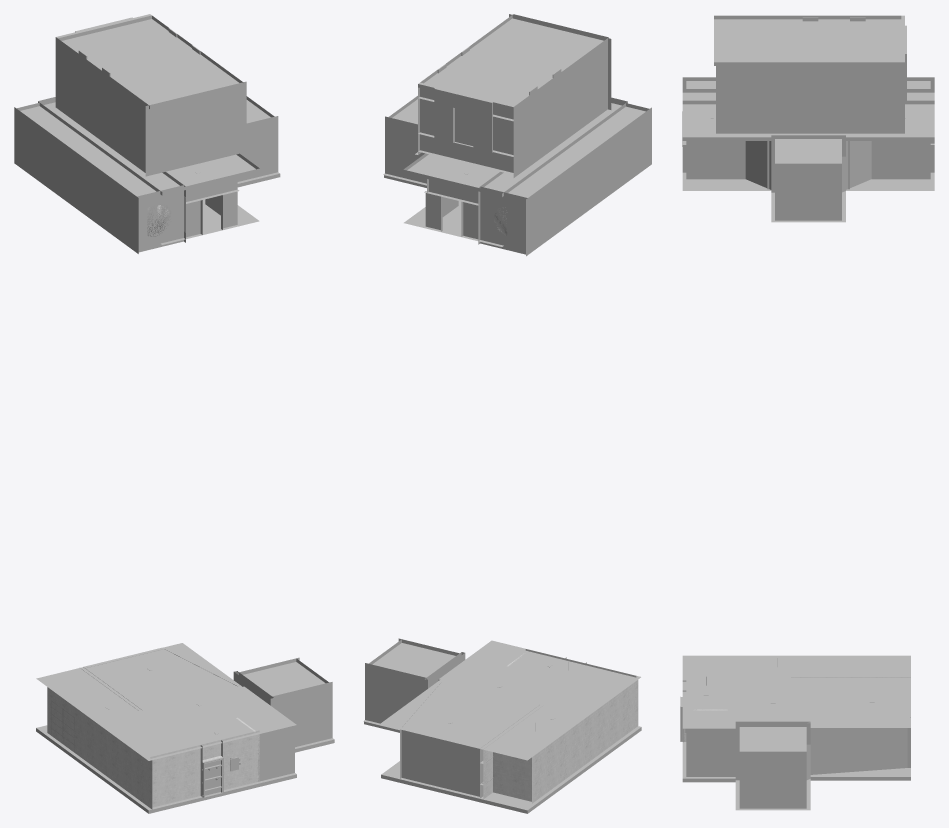
Rendered from room008.fbx.
3 renders of one model, left to right at view 1: azimuth 30°, elevation 25°; view 2: azimuth 150°, elevation 25°; view 3: azimuth 270°, elevation 25°, orthographic.
Parts seen in each view (by area): view 1: room008_opt; view 2: room008_opt; view 3: room008_opt.
Boxes of the visible parts, x1,y1,x2,y2 form: room008_opt: (14,14,334,813); room008_opt: (363,14,651,813); room008_opt: (680,15,934,810).
Bounding box in the file's own units: 21120 × 62889 × 20660.
